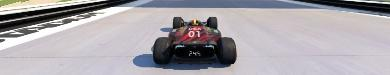Car: (151, 16, 236, 64)
obstacles-Borders: (0, 0, 137, 29)
